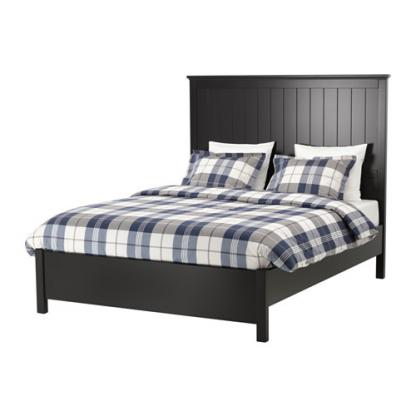Bed: (30, 71, 394, 343)
